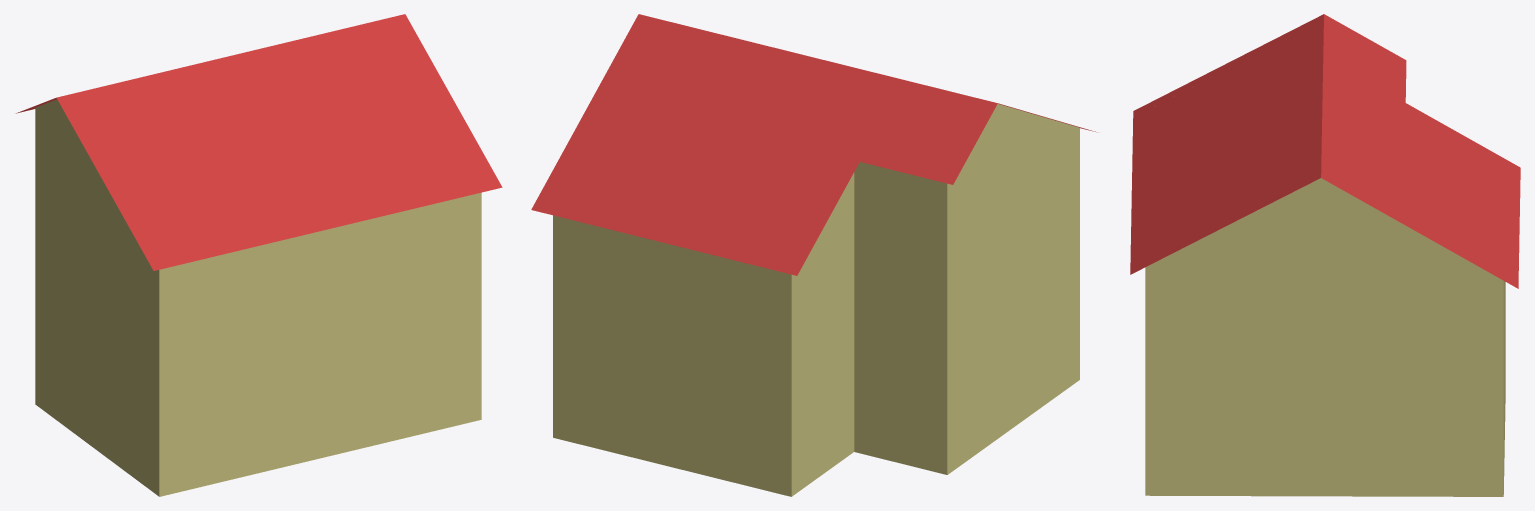
The picture shows the model from 3 angles, left to right: view 1: azimuth 30°, elevation 25°; view 2: azimuth 150°, elevation 25°; view 3: azimuth 270°, elevation 25°; orthographic projection. The views are drawn at different scales.
Size of the model in its own units: 13.18 by 13.16 by 12.08.
